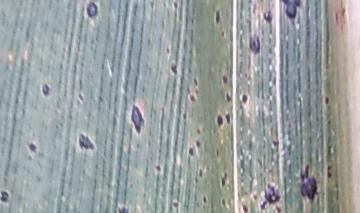tarspot: (297, 162, 321, 202), (255, 182, 281, 210), (128, 102, 146, 136), (76, 130, 97, 154), (245, 32, 263, 55), (282, 1, 301, 21), (84, 1, 100, 21), (39, 78, 52, 100), (324, 161, 334, 181), (214, 112, 226, 128), (262, 8, 274, 24), (224, 110, 234, 128), (218, 71, 230, 86), (218, 171, 230, 186), (152, 162, 165, 175), (170, 60, 179, 77), (114, 204, 131, 213), (213, 9, 222, 25), (26, 141, 37, 154), (1, 190, 11, 204), (186, 145, 196, 158), (223, 90, 233, 103), (239, 93, 251, 103), (240, 201, 250, 213), (270, 137, 282, 147), (323, 95, 333, 106), (188, 93, 198, 104), (191, 76, 200, 87), (219, 197, 228, 208), (197, 166, 204, 180), (200, 193, 208, 205), (170, 200, 180, 208)
